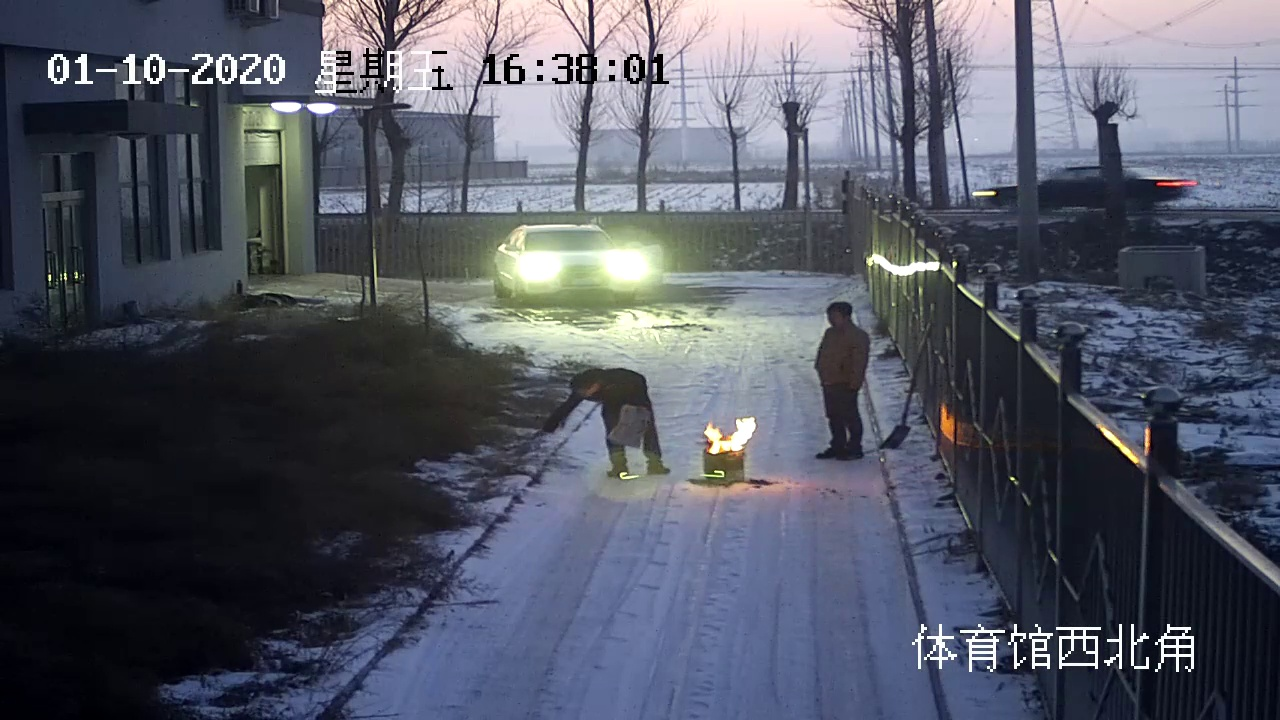fire: (708, 410, 759, 452)
